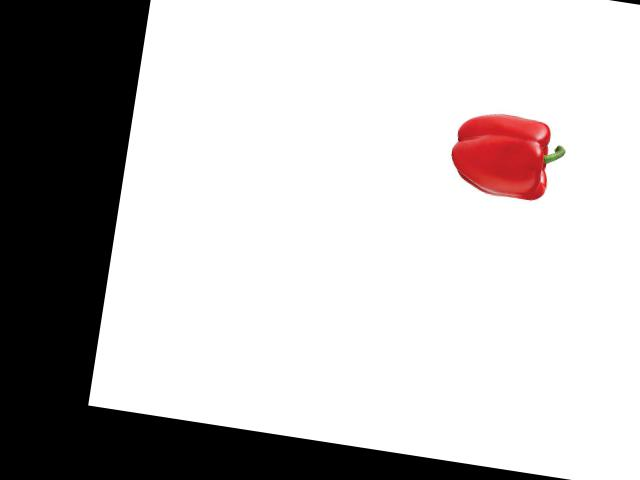bell_pepper: (442, 102, 570, 210)
